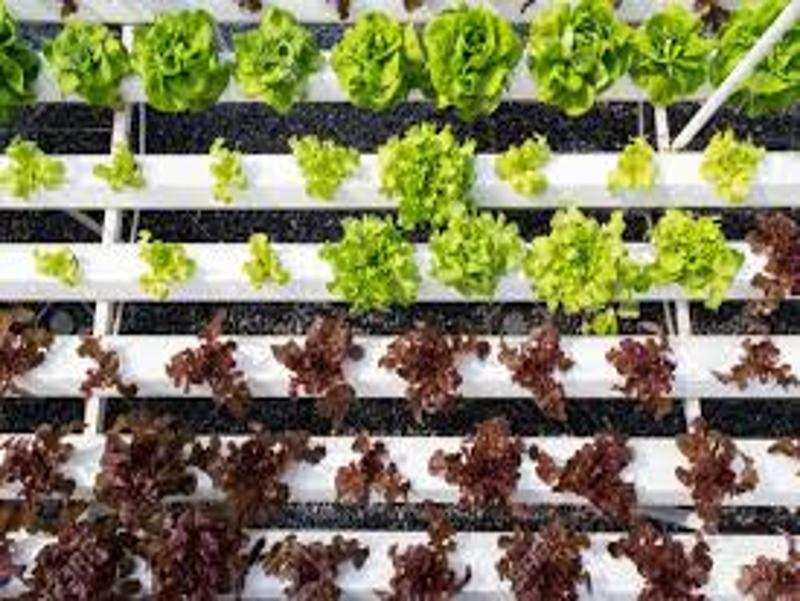cabbage: (531, 3, 636, 113), (425, 6, 522, 113), (145, 7, 231, 107), (336, 9, 419, 112), (729, 3, 800, 120), (238, 7, 320, 108), (52, 15, 136, 109), (641, 2, 711, 104)
green lettuce: (534, 204, 651, 332), (319, 215, 418, 313), (381, 124, 476, 220), (657, 207, 742, 311), (430, 206, 528, 295), (287, 131, 359, 203), (134, 230, 198, 300), (705, 134, 766, 201), (500, 132, 557, 198), (6, 139, 62, 198), (243, 229, 292, 292), (206, 139, 257, 198), (610, 139, 660, 192), (95, 147, 149, 194), (31, 245, 79, 283)
red lettuce: (97, 412, 195, 530), (534, 429, 645, 525), (671, 417, 758, 526), (436, 410, 525, 515), (195, 432, 303, 518), (279, 314, 357, 426), (169, 318, 256, 418), (1, 422, 84, 522), (128, 527, 244, 598), (498, 512, 592, 599), (391, 325, 472, 418), (614, 526, 716, 598), (380, 521, 472, 597), (26, 529, 122, 597), (506, 326, 573, 422), (336, 430, 412, 512), (607, 330, 679, 414), (263, 533, 348, 598), (722, 336, 798, 403), (75, 336, 144, 401), (4, 312, 51, 392), (741, 537, 797, 597)
